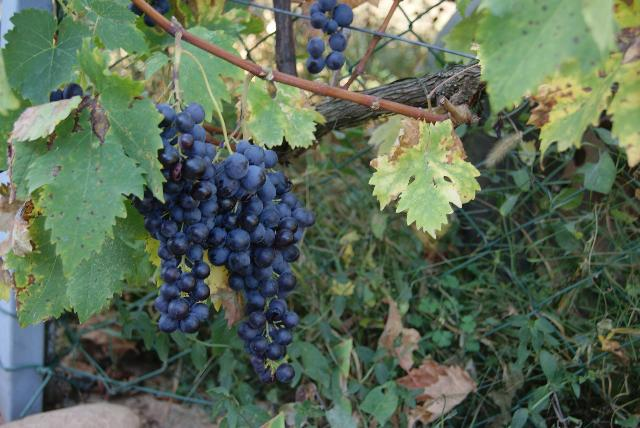grapes: (210, 141, 315, 384), (132, 102, 215, 334)
